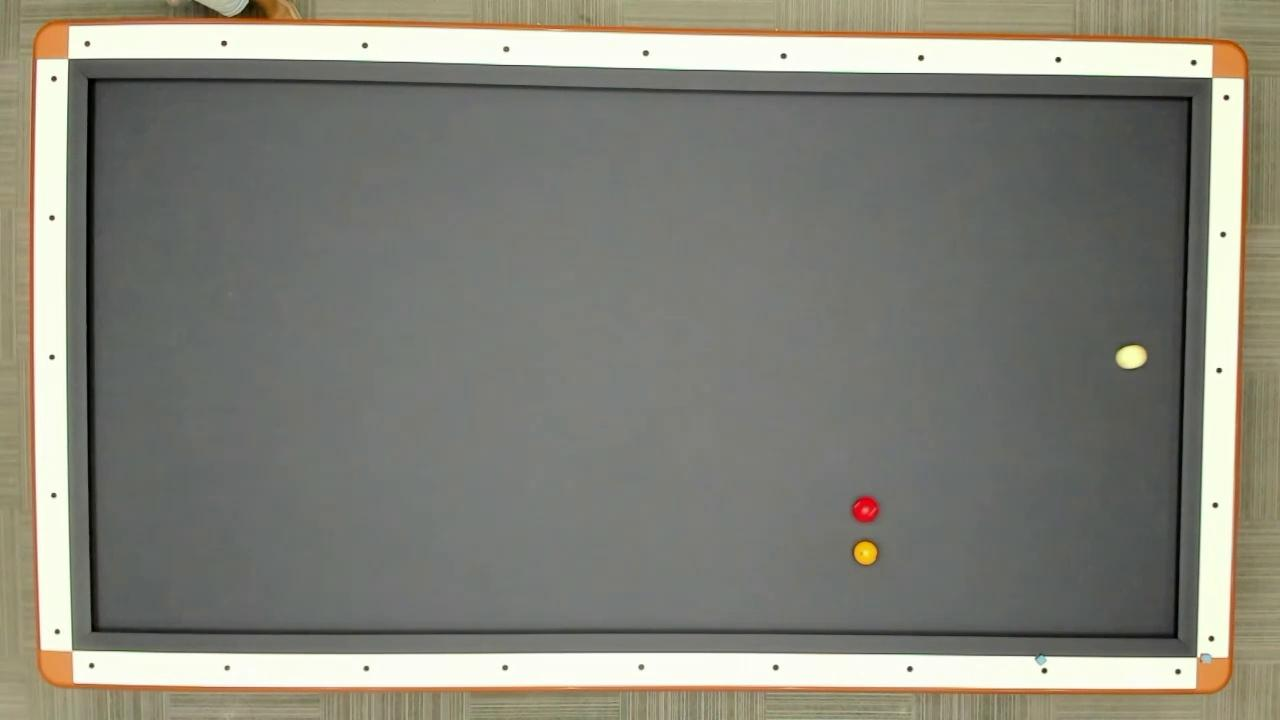Red: (851, 494, 880, 524)
White: (1113, 344, 1150, 373)
Yellow: (852, 540, 880, 568)
